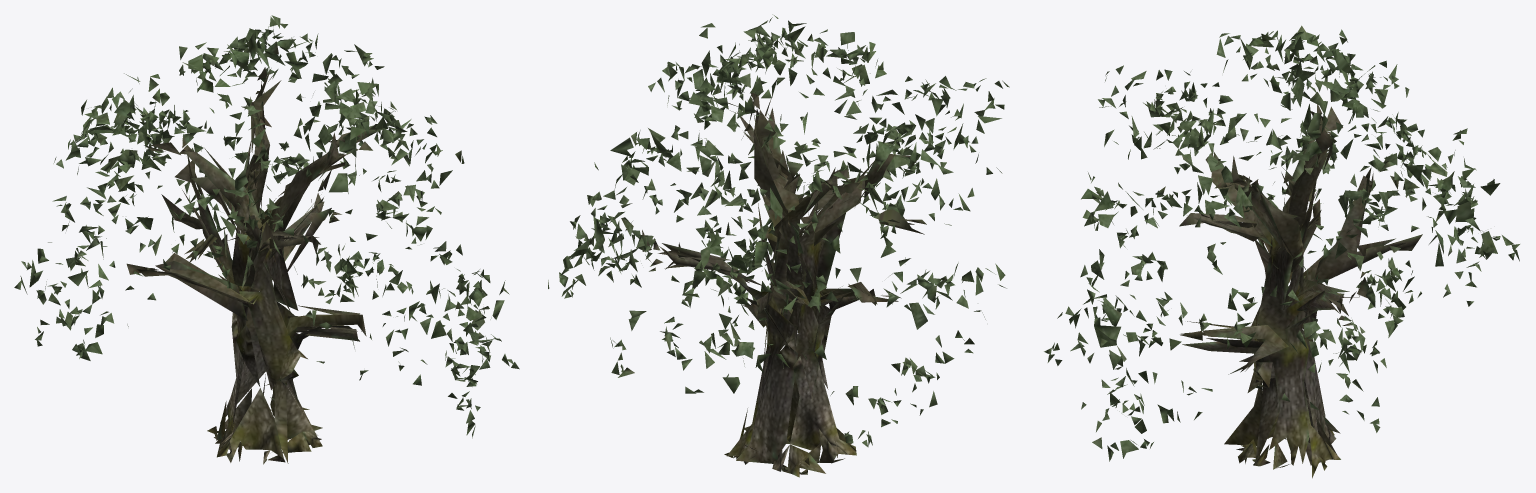
The model's file is tamm_low.glb.
The picture shows the model from 3 angles, left to right: view 1: azimuth 30°, elevation 25°; view 2: azimuth 150°, elevation 25°; view 3: azimuth 270°, elevation 25°; orthographic projection. The views are drawn at different scales.
Parts seen in each view (by area): view 1: world; view 2: world; view 3: world.
Part boxes in pixels (<box>): world: <box>14,15,519,464</box>; world: <box>548,14,1009,477</box>; world: <box>1044,25,1519,478</box>.
Bounding box in the file's own units: 1.06 × 1.03 × 1.03.
1 material, 1 textured.
